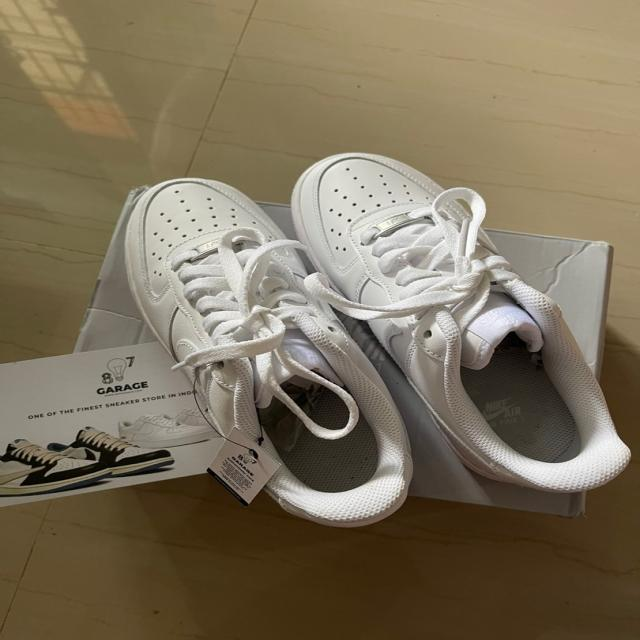nike original air force: (289, 148, 630, 500), (83, 177, 419, 528)
